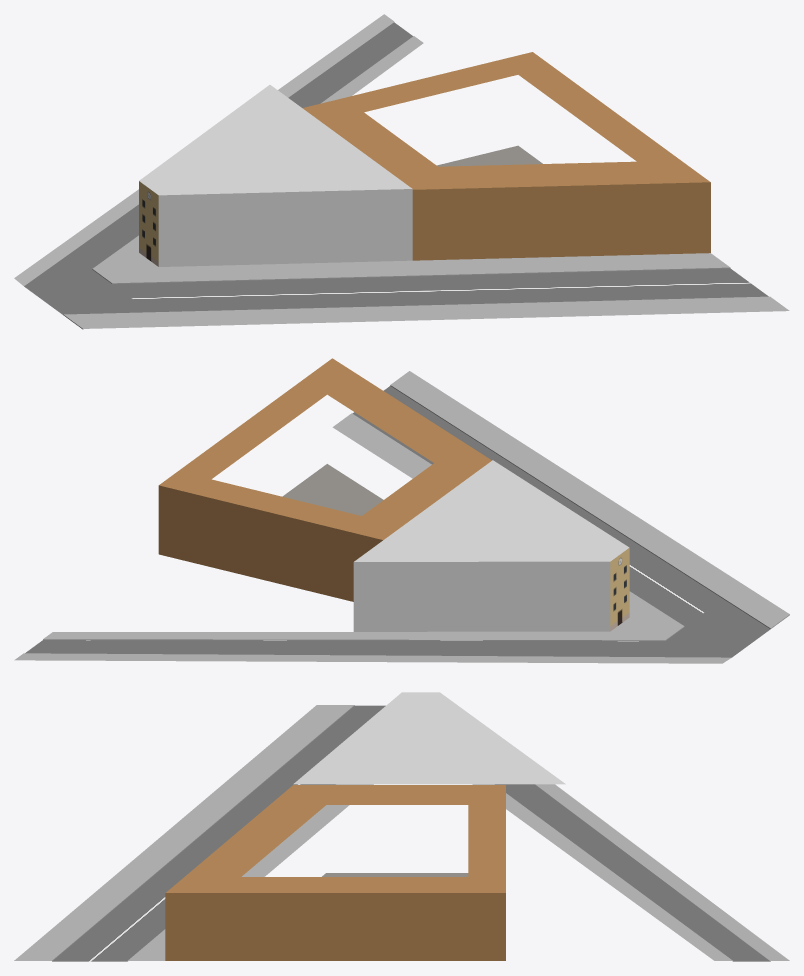
The model's file is bifurcation.glb.
The picture shows the model from 3 angles, top to bottom: view 1: azimuth 30°, elevation 25°; view 2: azimuth 150°, elevation 25°; view 3: azimuth 270°, elevation 25°; orthographic projection. The views are drawn at different scales.
Visible parts, largest first — view 1: Council, Cube, Roads, Sidewalk; view 2: Cube, Council, Sidewalk, Roads; view 3: Council, Sidewalk, Roads, Cube.
Boxes of the visible parts, box(x1,y1,x2,y2) form: Council: box(302, 52, 710, 260); Cube: box(139, 85, 412, 266); Roads: box(24, 22, 768, 314); Sidewalk: box(14, 14, 789, 329); Cube: box(353, 460, 629, 631); Council: box(158, 358, 491, 601); Sidewalk: box(14, 371, 789, 663); Roads: box(25, 386, 770, 657); Council: box(165, 785, 505, 960); Sidewalk: box(14, 705, 789, 961); Roads: box(52, 705, 770, 961); Cube: box(293, 692, 565, 784).
Bounding box in the file's own units: 64 × 8.1 × 82.
7 materials, 2 textured.
